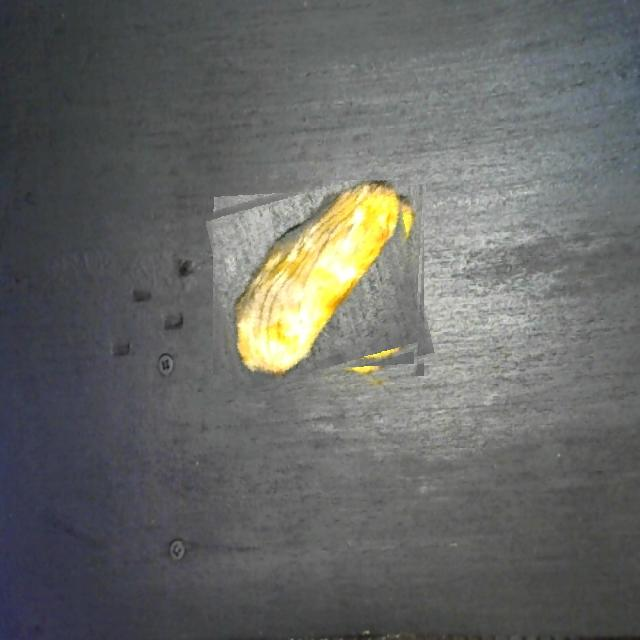biodegradable: (213, 180, 427, 393)
